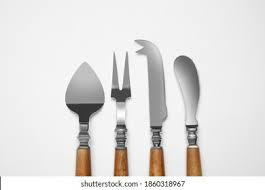Knife: (133, 38, 167, 175), (64, 60, 104, 175), (173, 54, 202, 175), (110, 50, 131, 175)
